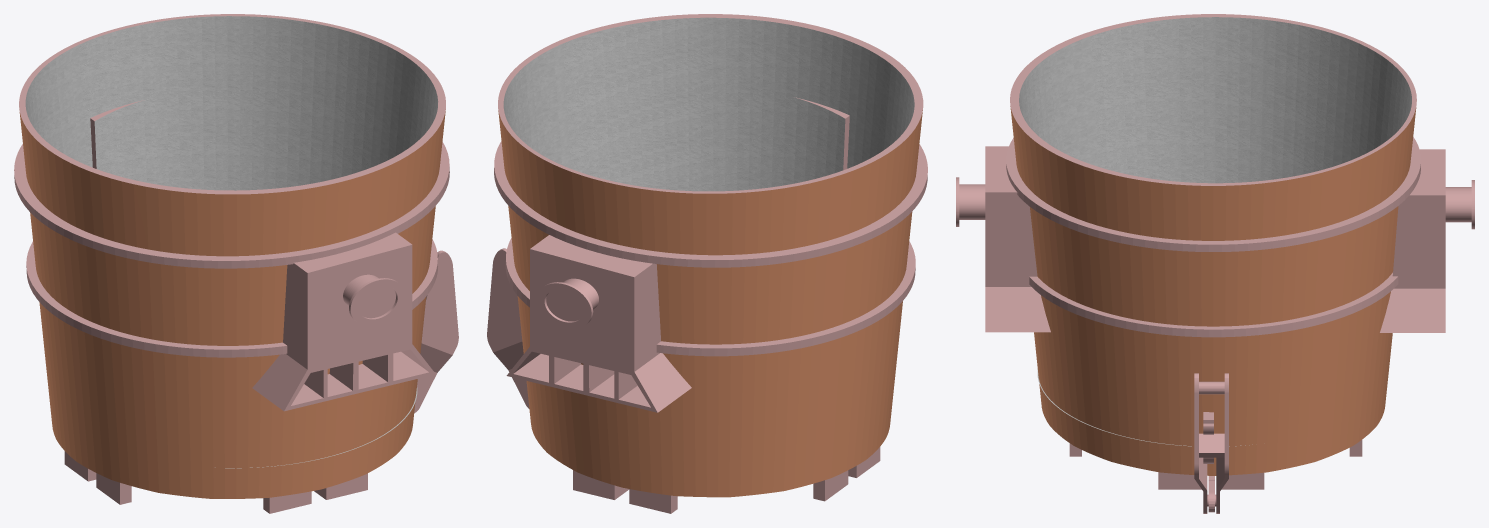
The model's file is ladle_empty.dae.
The picture shows the model from 3 angles, left to right: view 1: azimuth 30°, elevation 25°; view 2: azimuth 150°, elevation 25°; view 3: azimuth 270°, elevation 25°; orthographic projection. The views are drawn at different scales.
Visible parts, largest first — view 1: mesh13-geometry_material3_IndexedFaceSet, mesh13-geometry_material1_IndexedFaceSet, mesh17-geometry_material0_IndexedFaceSet, mesh13-geometry_material0_IndexedFaceSet, mesh14-geometry_material0_IndexedFaceSet, mesh3-geometry_material0_IndexedFaceSet, mesh15-geometry_material0_IndexedFaceSet; view 2: mesh13-geometry_material3_IndexedFaceSet, mesh13-geometry_material1_IndexedFaceSet, mesh18-geometry_material0_IndexedFaceSet, mesh13-geometry_material0_IndexedFaceSet, mesh14-geometry_material0_IndexedFaceSet, mesh1-geometry_material0_IndexedFaceSet, mesh16-geometry_material0_IndexedFaceSet; view 3: mesh13-geometry_material3_IndexedFaceSet, mesh13-geometry_material1_IndexedFaceSet, mesh13-geometry_material0_IndexedFaceSet, mesh18-geometry_material0_IndexedFaceSet, mesh17-geometry_material0_IndexedFaceSet, mesh14-geometry_material0_IndexedFaceSet, mesh3-geometry_material0_IndexedFaceSet, mesh1-geometry_material0_IndexedFaceSet, mesh16-geometry_material0_IndexedFaceSet, mesh15-geometry_material0_IndexedFaceSet, mesh7-geometry_material0_IndexedFaceSet.
Part boxes in pixels (bbox=[...]): mesh13-geometry_material3_IndexedFaceSet: bbox=[19, 109, 445, 498]; mesh13-geometry_material1_IndexedFaceSet: bbox=[25, 16, 438, 190]; mesh17-geometry_material0_IndexedFaceSet: bbox=[252, 232, 435, 411]; mesh13-geometry_material0_IndexedFaceSet: bbox=[14, 14, 449, 268]; mesh14-geometry_material0_IndexedFaceSet: bbox=[26, 239, 437, 357]; mesh3-geometry_material0_IndexedFaceSet: bbox=[414, 250, 458, 412]; mesh15-geometry_material0_IndexedFaceSet: bbox=[96, 473, 367, 513]; mesh13-geometry_material3_IndexedFaceSet: bbox=[498, 110, 922, 497]; mesh13-geometry_material1_IndexedFaceSet: bbox=[503, 17, 914, 191]; mesh18-geometry_material0_IndexedFaceSet: bbox=[506, 235, 691, 412]; mesh13-geometry_material0_IndexedFaceSet: bbox=[494, 14, 927, 267]; mesh14-geometry_material0_IndexedFaceSet: bbox=[505, 238, 915, 356]; mesh1-geometry_material0_IndexedFaceSet: bbox=[487, 248, 529, 408]; mesh16-geometry_material0_IndexedFaceSet: bbox=[573, 470, 848, 513]; mesh13-geometry_material3_IndexedFaceSet: bbox=[1010, 106, 1416, 475]; mesh13-geometry_material1_IndexedFaceSet: bbox=[1019, 17, 1411, 183]; mesh13-geometry_material0_IndexedFaceSet: bbox=[1006, 14, 1420, 251]; mesh18-geometry_material0_IndexedFaceSet: bbox=[1380, 149, 1474, 332]; mesh17-geometry_material0_IndexedFaceSet: bbox=[956, 146, 1050, 332]; mesh14-geometry_material0_IndexedFaceSet: bbox=[1029, 272, 1398, 337]; mesh3-geometry_material0_IndexedFaceSet: bbox=[1194, 373, 1207, 513]; mesh1-geometry_material0_IndexedFaceSet: bbox=[1216, 373, 1228, 513]; mesh16-geometry_material0_IndexedFaceSet: bbox=[1221, 440, 1362, 489]; mesh15-geometry_material0_IndexedFaceSet: bbox=[1069, 443, 1201, 489]; mesh7-geometry_material0_IndexedFaceSet: bbox=[1199, 433, 1224, 457].
Bounding box in the file's own units: 2.46 × 2.02 × 2.86.
